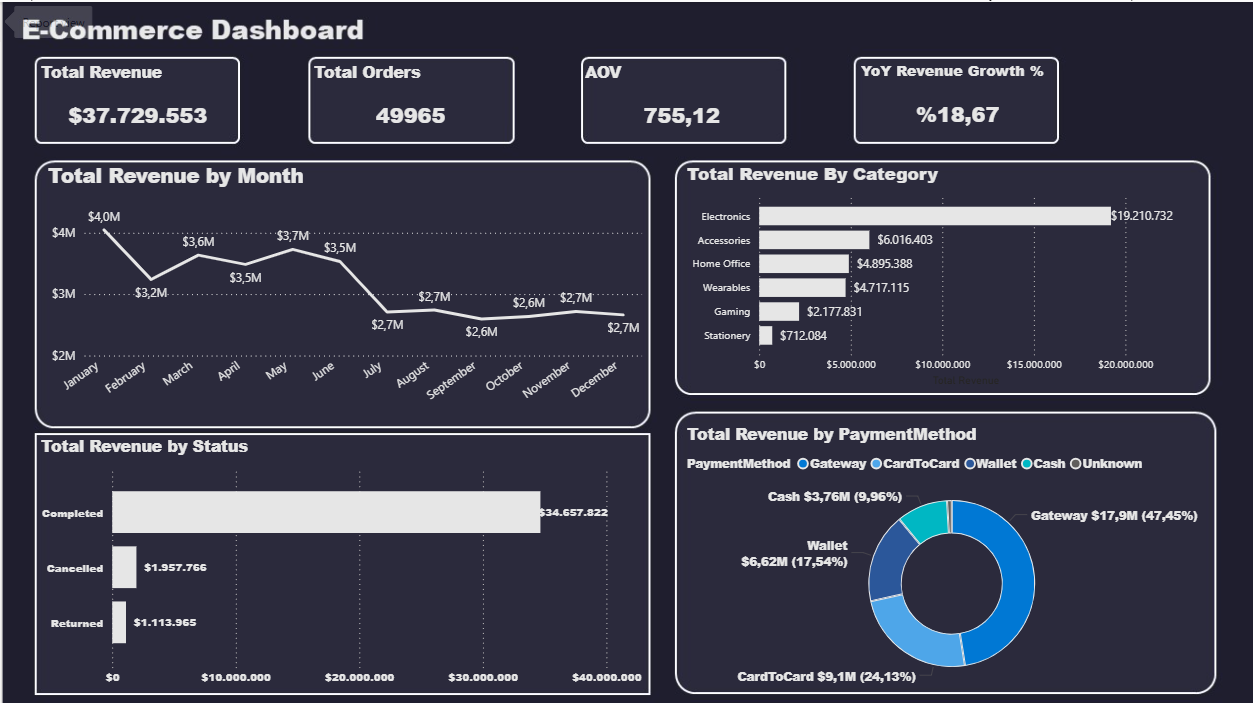

The dashboard page shown, as its layout file describes it:
{"tool":"powerbi","page":{"name":"Executive Overview","canvas":[1280,720],"ordinal":0},"visuals":[{"type":"cardVisual","title":"Total Revenue","fields":{"Data":["_Measure.Total Revenue"]},"box":[34.8,59.3,208.7,88],"z":0},{"type":"cardVisual","title":"Total Orders","fields":{"Data":["_Measure.Total Orders"]},"box":[314.1,59.3,208.7,88],"z":1000},{"type":"cardVisual","title":"AOV","fields":{"Data":["_Measure.AOV"]},"box":[591.4,59.3,208.7,88],"z":2000},{"type":"cardVisual","title":"YoY Revenue Growth %","fields":{"Data":["_Measure.YoY Revenue Growth %"]},"box":[873.8,59.3,208.7,88],"z":3000},{"type":"lineChart","title":"Total Revenue by Month","fields":{"Category":["Dim_Date.MonthName"],"Y":["_Measure.Total Revenue"]},"box":[42,162.7,618,267.1],"z":4000},{"type":"clusteredBarChart","title":"Total Revenue By Category","fields":{"Y":["_Measure.Total Revenue"],"Category":["Dim_Product.Category"]},"box":[695.8,162.7,536.1,235.3],"z":5000},{"type":"donutChart","fields":{"Category":["Fact_Sales.PaymentMethod"],"Y":["_Measure.Total Revenue"]},"box":[695.5,429.4,552.1,279.6],"z":6000},{"type":"barChart","fields":{"Category":["Fact_Sales.Status"],"Y":["_Measure.Total Revenue"]},"box":[35.2,442,625.1,267],"z":6001}]}

Visuals, with their boxes in screenshot pixels (x1, y1, x2, y2), scaled from the page's 1280x720 canvas onto the 1253x703 screenshot:
"Total Revenue" cardVisual: 34 58 238 144
"Total Orders" cardVisual: 307 58 512 144
"AOV" cardVisual: 579 58 783 144
"YoY Revenue Growth %" cardVisual: 855 58 1060 144
"Total Revenue by Month" lineChart: 41 159 646 420
"Total Revenue By Category" clusteredBarChart: 681 159 1206 389
donutChart - Fact_Sales.PaymentMethod x _Measure.Total Revenue: 681 419 1221 692
barChart - Fact_Sales.Status x _Measure.Total Revenue: 34 432 646 692
